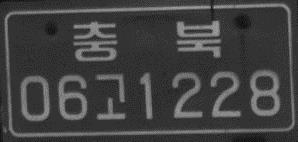0: (19, 73, 51, 122)
1: (136, 70, 156, 120)
2: (210, 69, 243, 118), (171, 71, 204, 119)
6: (58, 73, 88, 121)
8: (248, 68, 281, 117)
고: (94, 70, 128, 122)
충북_D: (71, 18, 222, 63)
